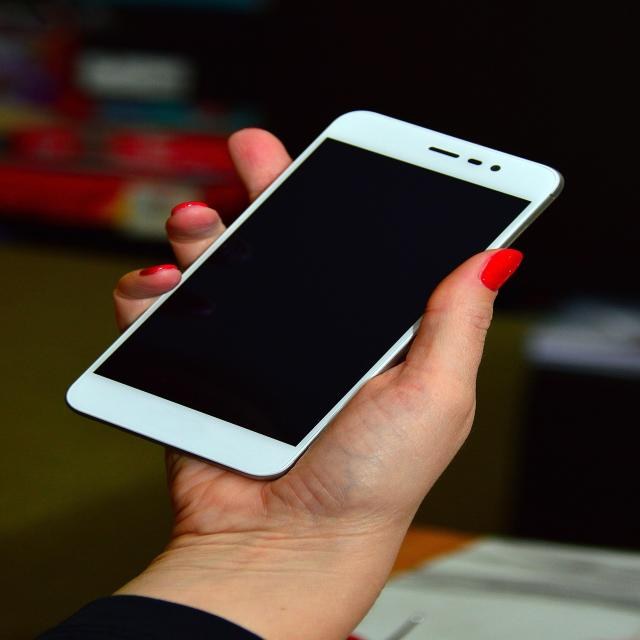Mobile: (54, 90, 587, 516)
